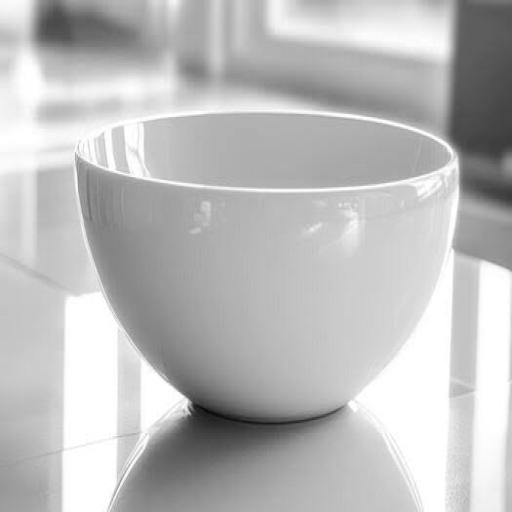Bowl: (76, 113, 443, 420)
